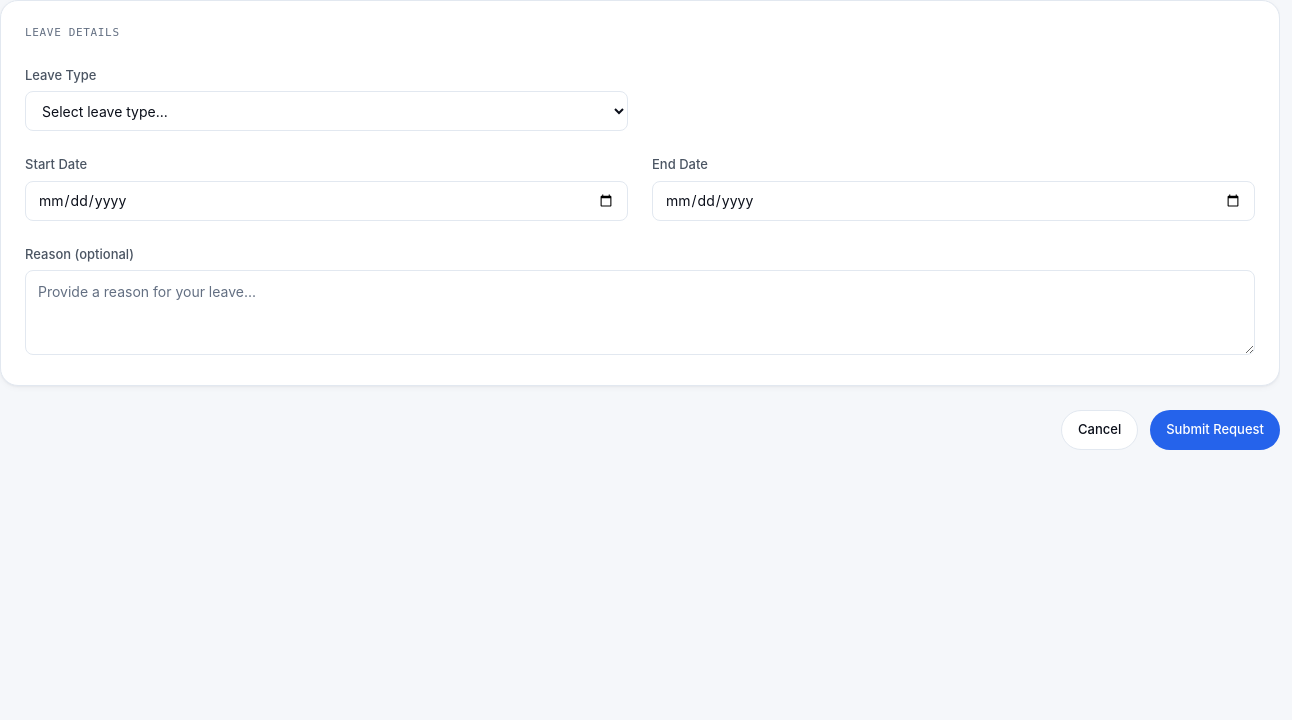
Test: LeaveRequestForm › shows validation errors when submitting empty form
What coordinates should you click on to do the following:
click the button "Submit Request"
I would click on:
 (1215, 430)
Its box is [1150, 410, 1280, 450].
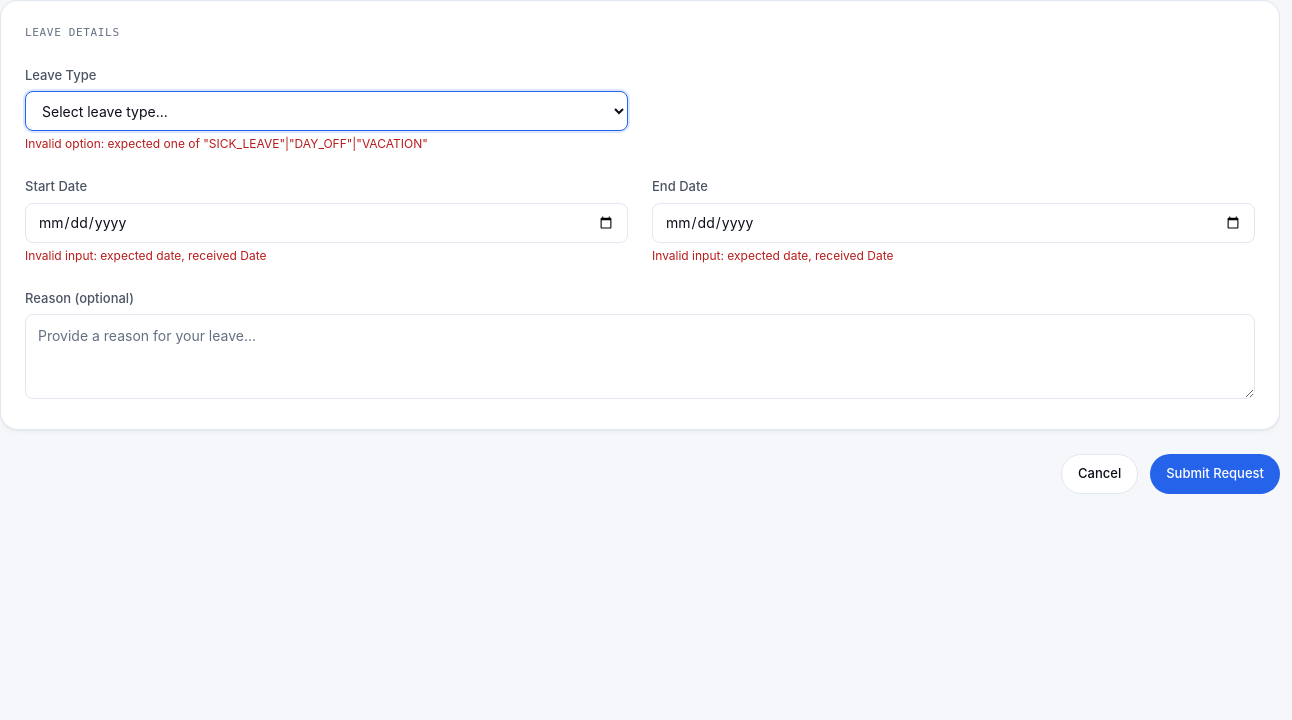
Now the text "Invalid input: expected date, received Date" is shown 2 times, box [25, 248, 266, 262]; [652, 248, 894, 262]
Now the text "Invalid option" is shown, box [25, 136, 428, 151]
